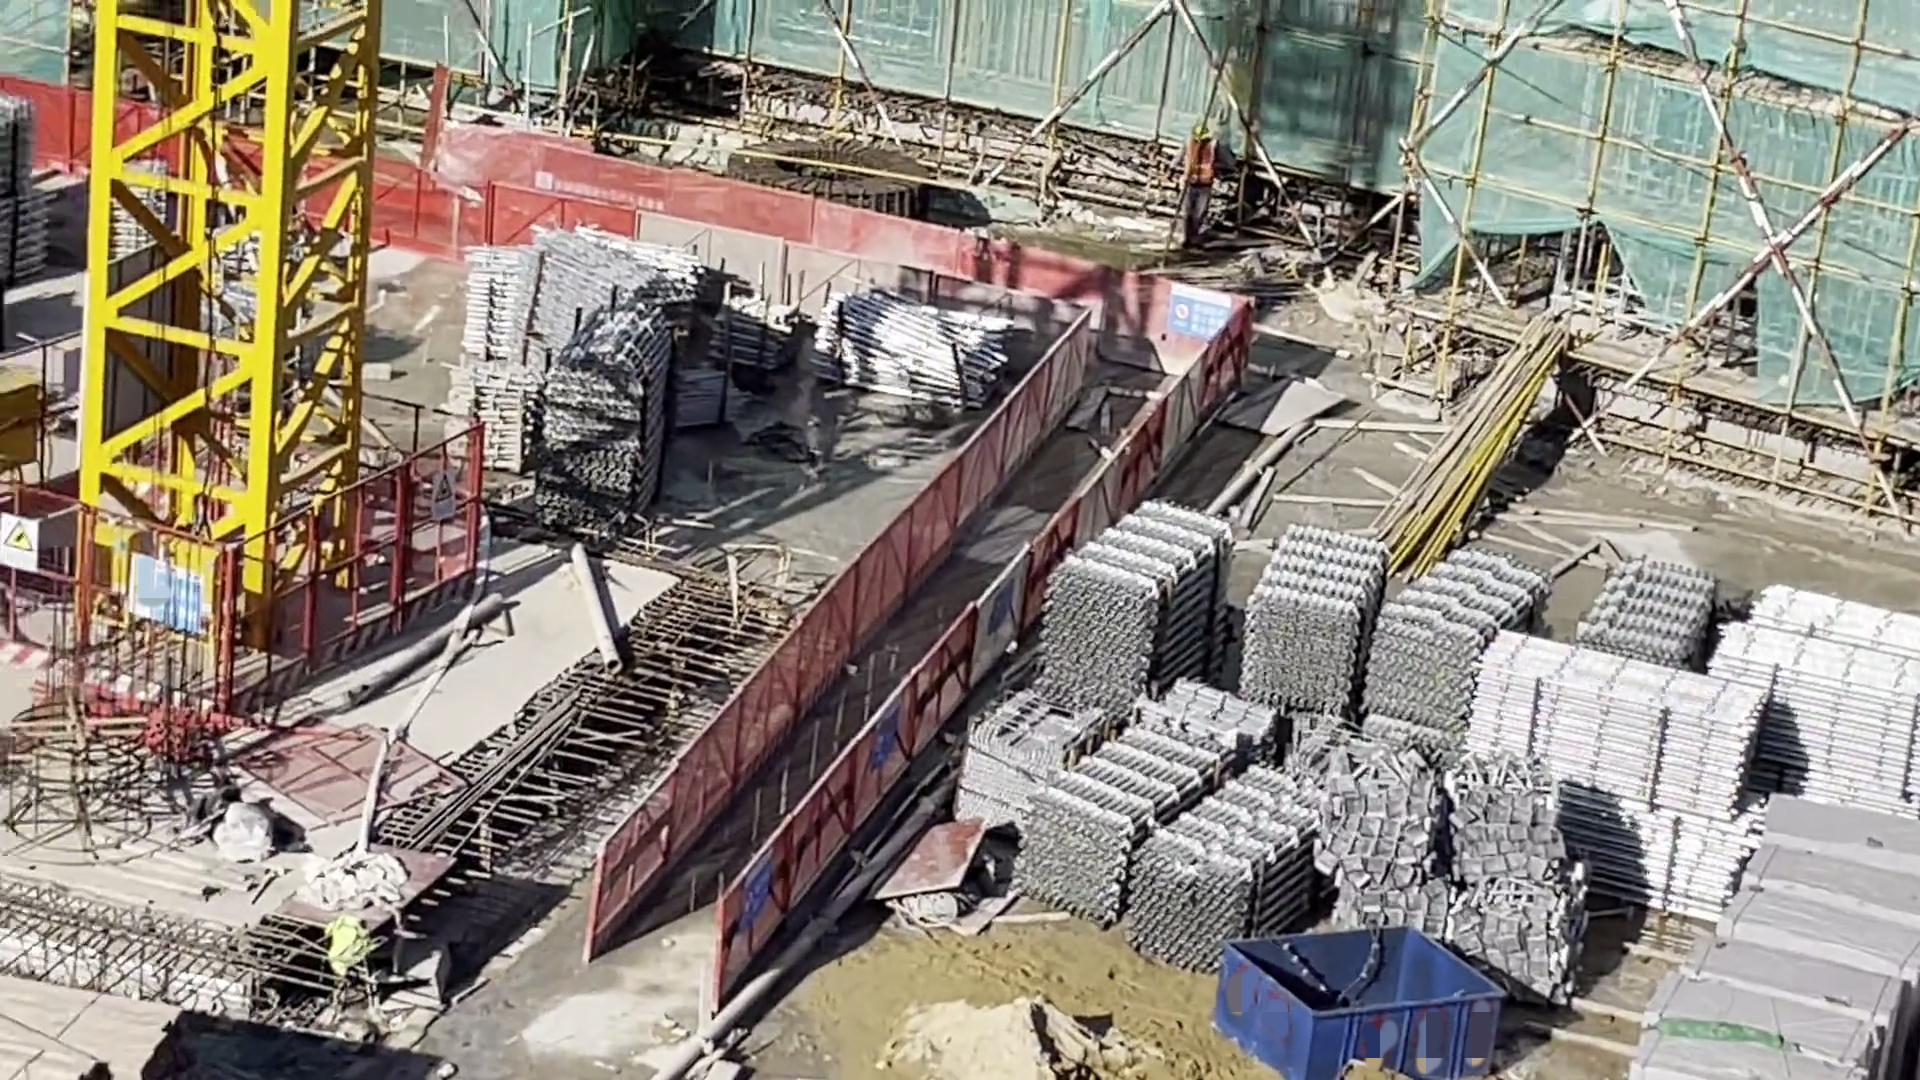ebox: (68, 517, 214, 654), (1, 384, 39, 457)
fence: (573, 727, 839, 996), (48, 514, 468, 649), (451, 177, 1001, 280), (761, 579, 993, 774), (1046, 284, 1226, 419)
helmet: (1191, 121, 1211, 148)
hopper: (1221, 912, 1503, 1074)
person: (1173, 108, 1214, 242)
rebar: (418, 678, 583, 850)
scaffold: (1733, 579, 1920, 767), (1036, 519, 1206, 709), (469, 241, 684, 367), (1071, 704, 1216, 889), (1466, 651, 1719, 757), (1591, 759, 1756, 917), (1154, 782, 1311, 939), (833, 277, 1018, 402), (476, 349, 621, 496), (1231, 532, 1359, 684), (1368, 581, 1509, 717), (968, 692, 1076, 822), (1, 85, 74, 267), (1593, 526, 1684, 652), (724, 304, 801, 387), (104, 156, 158, 237)
vest: (1190, 144, 1216, 194)
